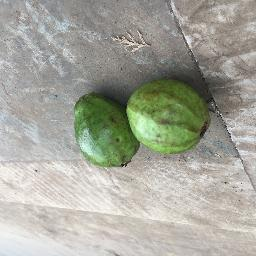Good_guava: (124, 76, 211, 156), (73, 92, 138, 173)
